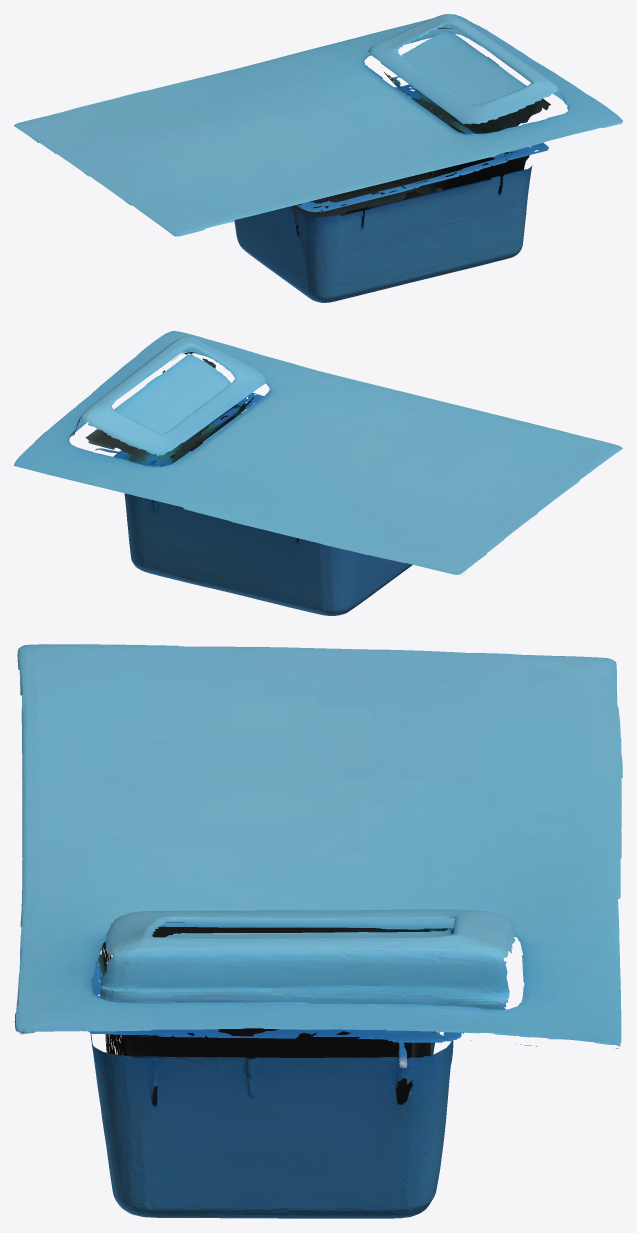
3 views of the same model, one above another, from view 1: azimuth 30°, elevation 25°; view 2: azimuth 150°, elevation 25°; view 3: azimuth 270°, elevation 25° (orthographic). The views are drawn at different scales.
Visible parts, largest first — view 1: geometry_0; view 2: geometry_0; view 3: geometry_0.
Boxes of the visible parts, box(x1,y1,x2,y2) form: geometry_0: box(14, 14, 622, 302); geometry_0: box(14, 331, 622, 615); geometry_0: box(14, 644, 622, 1218).
Size of the model in its own units: 0.999 by 0.3552 by 0.6419.
Materials: 1 (1 with a texture image).
